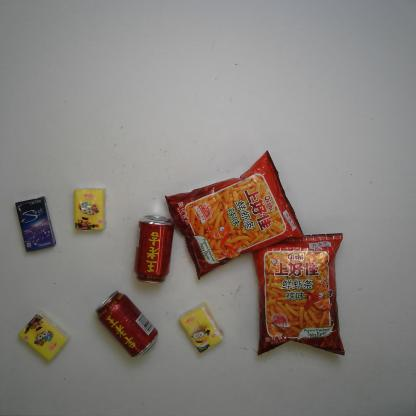Drink: (94, 290, 158, 356), (134, 214, 175, 284)
Gum: (16, 195, 56, 252)
Puffed Food: (163, 148, 305, 280), (249, 231, 347, 358)
Tissue: (177, 302, 223, 355), (18, 314, 68, 362), (72, 188, 106, 232)
